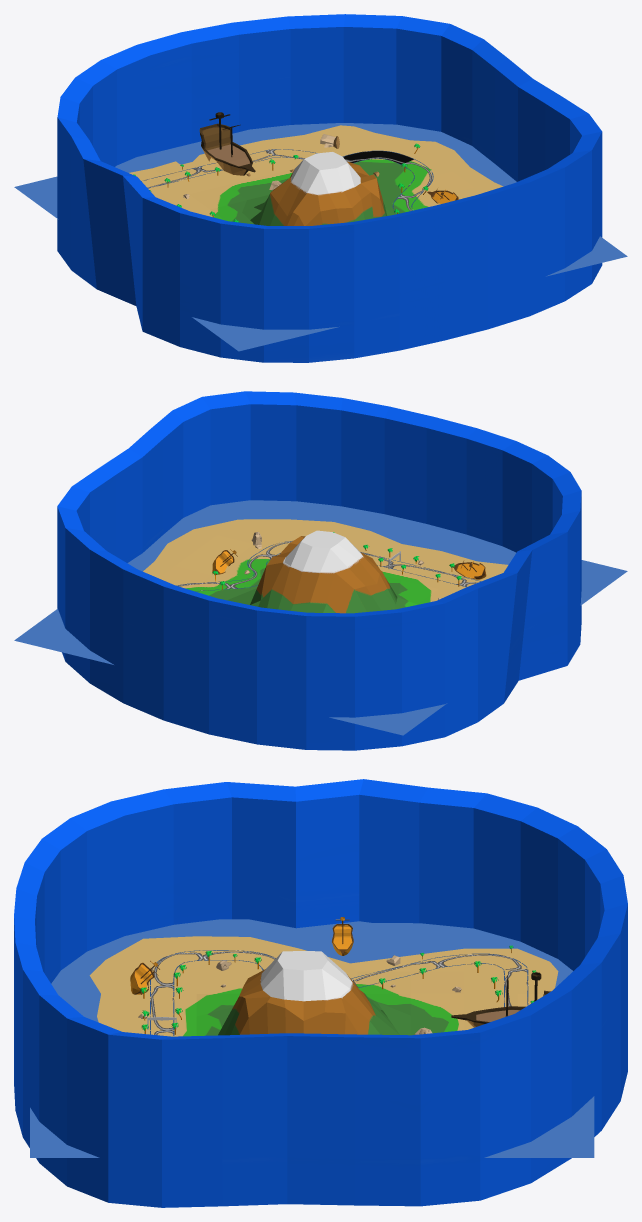
The model's file is palmeras.obj.
3 views of the same model, one above another, from view 1: azimuth 30°, elevation 25°; view 2: azimuth 150°, elevation 25°; view 3: azimuth 270°, elevation 25° (orthographic). The views are drawn at different scales.
Visible parts, largest first — view 1: CIELO, TERRENO, mar, BARCO.003_BARCO.002, Carretera; view 2: CIELO, TERRENO, mar, Carretera; view 3: CIELO, TERRENO, mar, Carretera, BARCO.003_BARCO.002, BARCO.001, BARCO.
Boxes of the visible parts, box(x1,y1,x2,y2) form: CIELO: box(57, 14, 602, 362); TERRENO: box(129, 125, 503, 225); mar: box(14, 123, 627, 351); BARCO.003_BARCO.002: box(199, 112, 255, 175); Carretera: box(141, 149, 433, 213); CIELO: box(57, 391, 581, 750); TERRENO: box(143, 519, 508, 613); mar: box(14, 500, 627, 735); Carretera: box(176, 541, 480, 591); CIELO: box(14, 779, 627, 1207); TERRENO: box(89, 936, 558, 1036); mar: box(30, 919, 594, 1157); Carretera: box(150, 950, 528, 1035); BARCO.003_BARCO.002: box(451, 972, 550, 1027); BARCO.001: box(332, 917, 353, 955); BARCO: box(130, 960, 159, 994).
Size of the model in its own units: 1061 by 319 by 1056.
